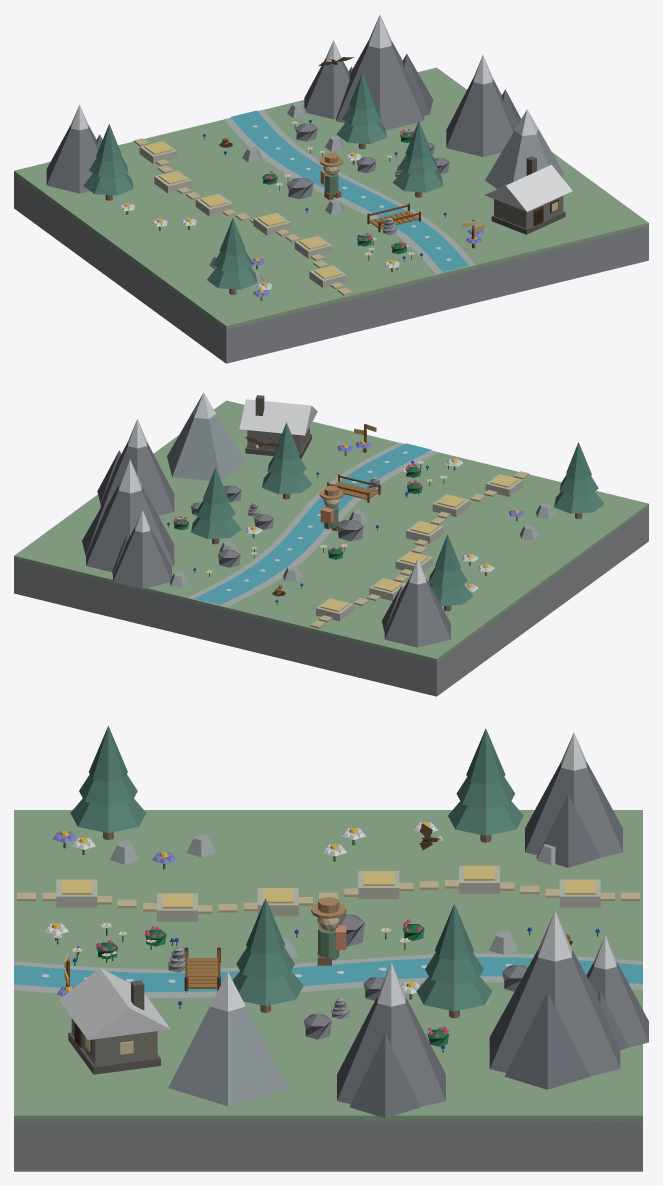
Rendered from alpine-v0.glb.
3 views of the same model, one above another, from view 1: azimuth 30°, elevation 25°; view 2: azimuth 150°, elevation 25°; view 3: azimuth 270°, elevation 25° (orthographic). The views are drawn at different scales.
Size of the model in its own units: 11.6 by 3.67 by 10.09.
